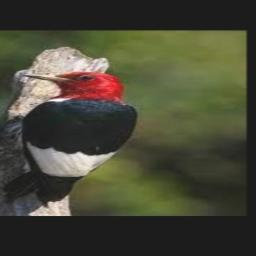Woodpecker: (4, 72, 142, 206)
